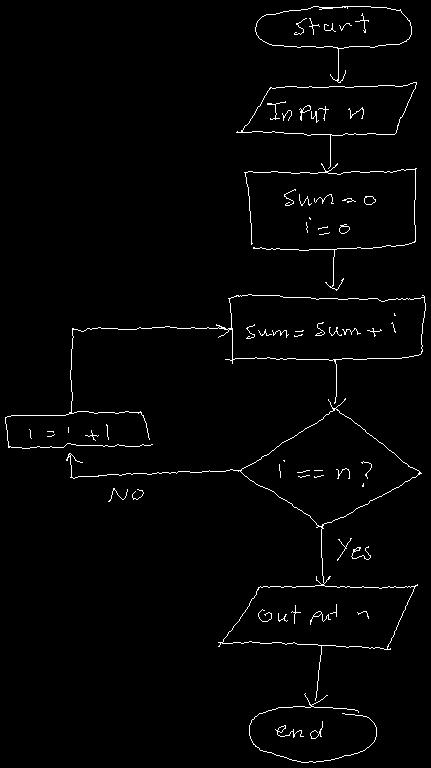arrow: (69, 324, 231, 413), (66, 453, 241, 478), (304, 646, 327, 705), (316, 524, 330, 585), (328, 359, 345, 409), (325, 249, 343, 290), (321, 134, 337, 172), (330, 48, 345, 82)
data: (218, 584, 417, 649), (236, 82, 416, 135)
decision: (238, 408, 421, 528)
process: (244, 168, 416, 250), (225, 294, 425, 363), (5, 411, 152, 448)
terminator: (249, 706, 376, 762), (255, 6, 411, 48)
text: (284, 189, 375, 234), (246, 313, 395, 338), (279, 460, 371, 486), (258, 604, 368, 624), (267, 101, 363, 122), (294, 13, 368, 34), (29, 424, 108, 440), (275, 721, 322, 738), (337, 538, 370, 560), (108, 488, 143, 501)
